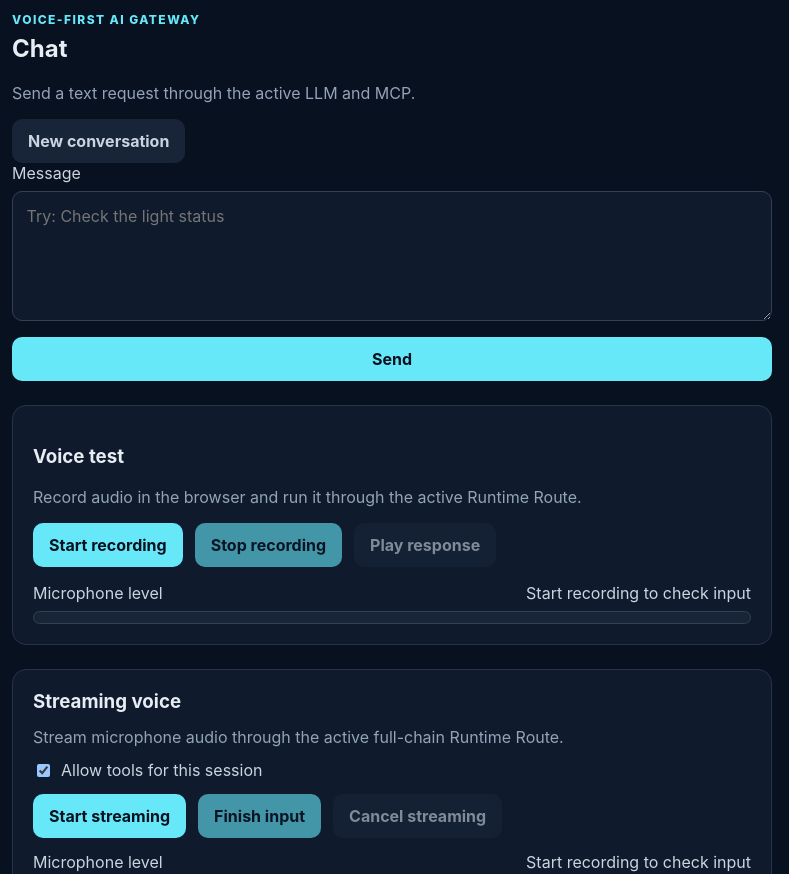
Test case: ChatPage › clears transient cancellation state for a new conversation
In the text box labelled "Message": [392, 256] box x1=12 y1=191 x2=772 y2=321, type "Check the light status"
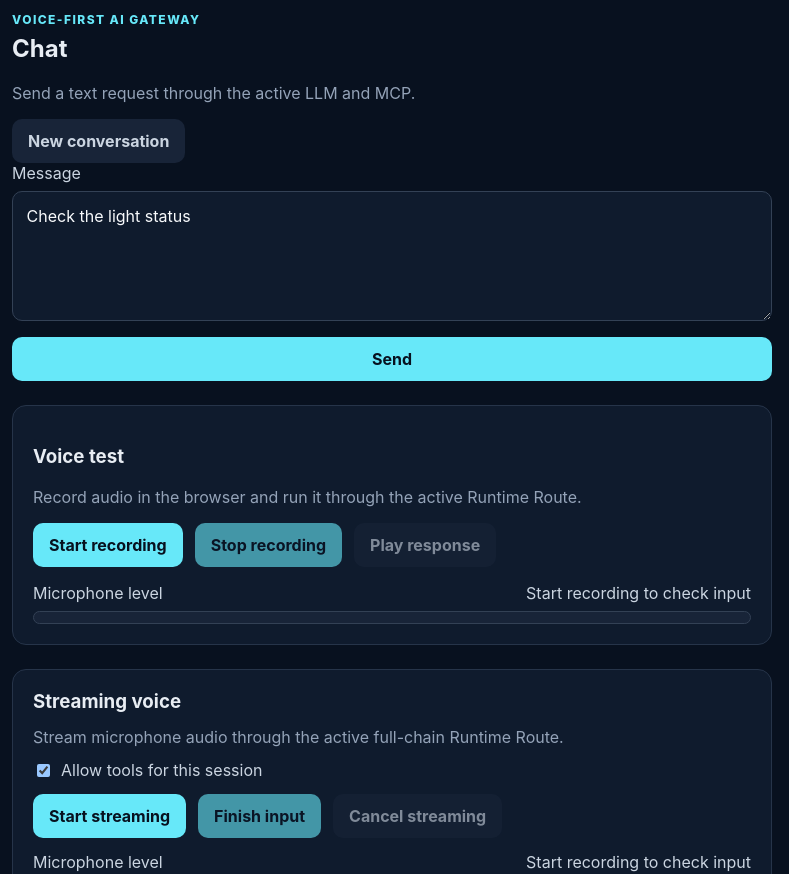
Click the button "Send": [392, 359] box x1=12 y1=337 x2=772 y2=381
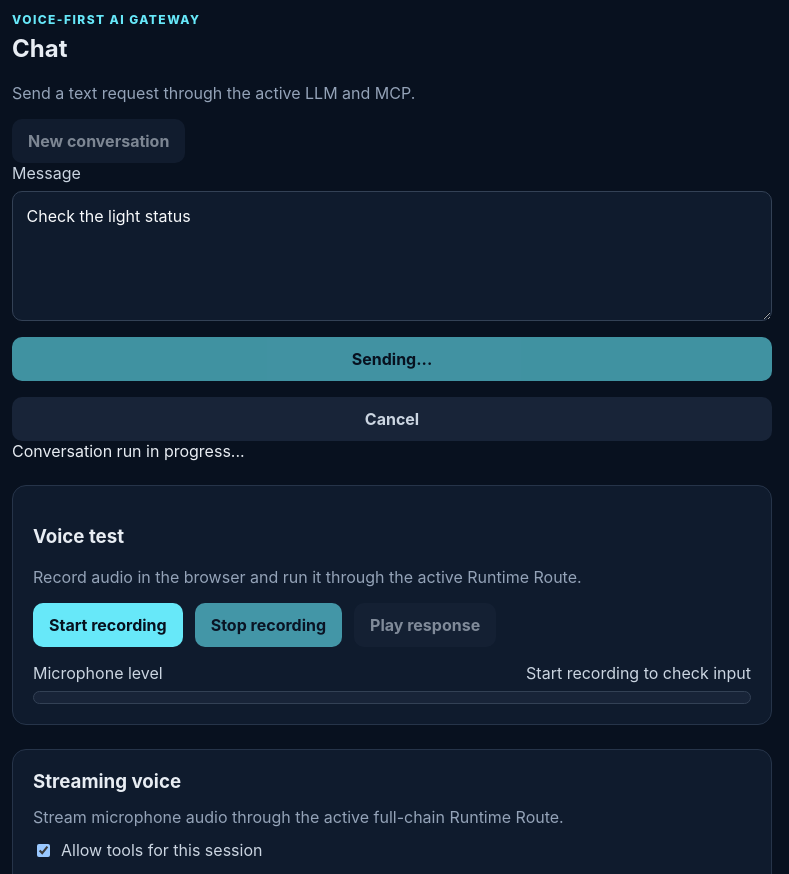
Click the button "Cancel": [392, 419] box x1=12 y1=397 x2=772 y2=441
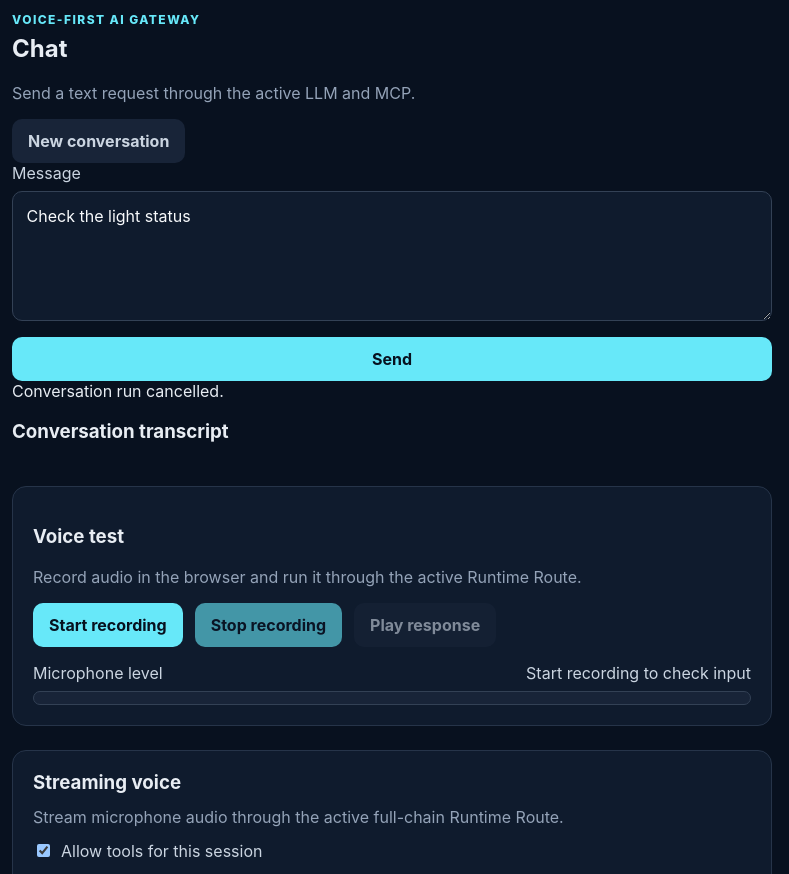
Expected: the text "Conversation run cancelled." is shown, x1=12 y1=381 x2=224 y2=401
Click the button "New conversation": [99, 141] box x1=12 y1=119 x2=185 y2=163
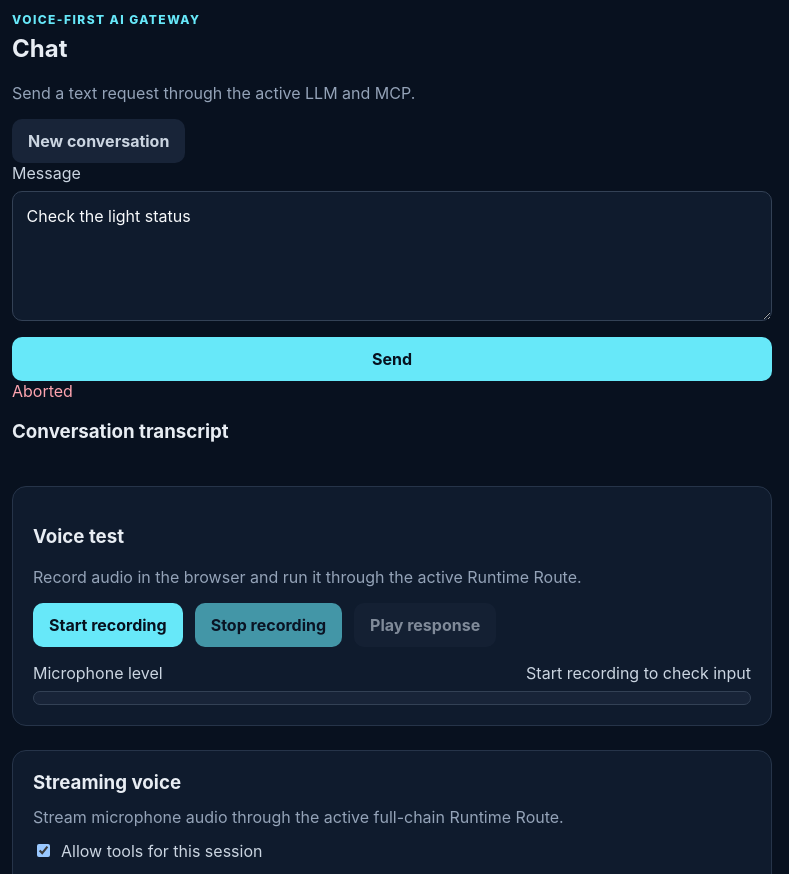
Expected: the text "Conversation run cancelled." is gone
